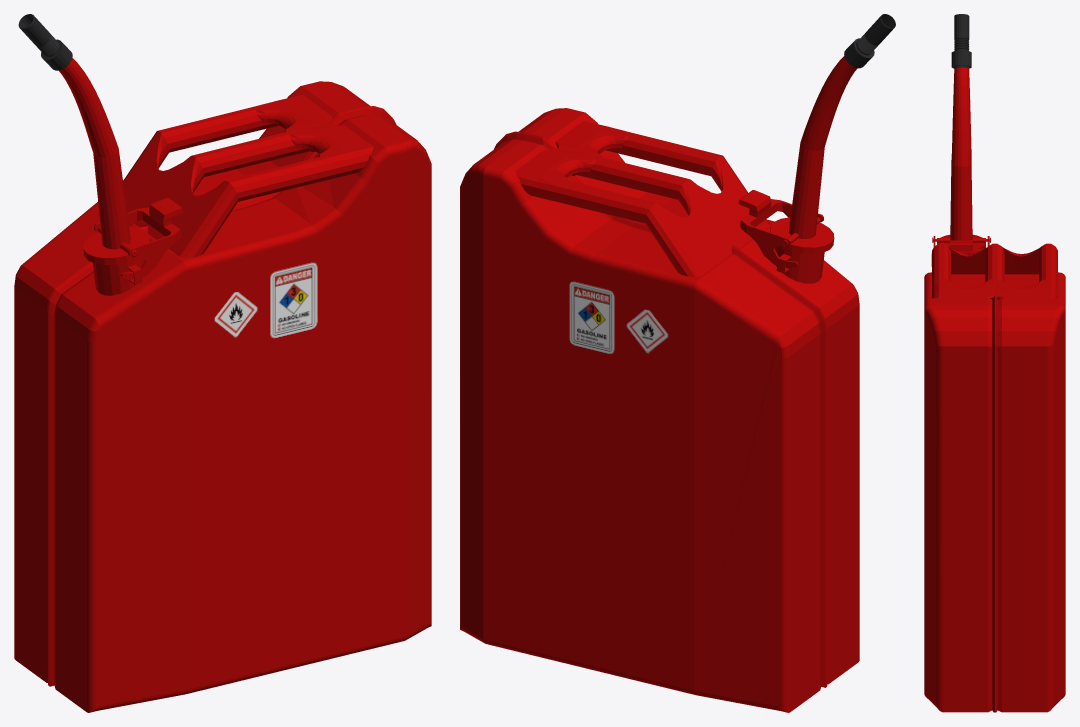
File: 52Export_MaterialsNotSet.fbx
3 renders of one model, left to right at view 1: azimuth 30°, elevation 25°; view 2: azimuth 150°, elevation 25°; view 3: azimuth 270°, elevation 25°, orthographic. The views are drawn at different scales.
Visible parts, largest first — view 1: FinalCanGroup1; view 2: FinalCanGroup1; view 3: FinalCanGroup1.
Boxes of the visible parts, x1=… form: FinalCanGroup1: x1=14, y1=14, x2=431, y2=712; FinalCanGroup1: x1=460, y1=14, x2=895, y2=712; FinalCanGroup1: x1=924, y1=14, x2=1065, y2=712.
Bounding box in the file's own units: 6.62 × 10.97 × 2.56.
